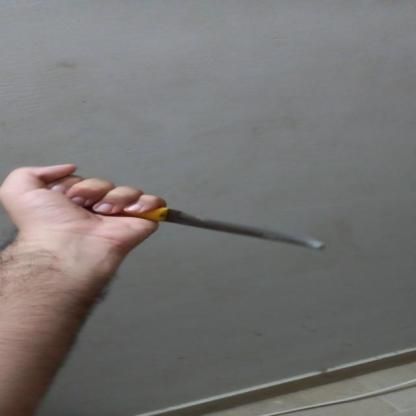Knife: (4, 164, 333, 254)
